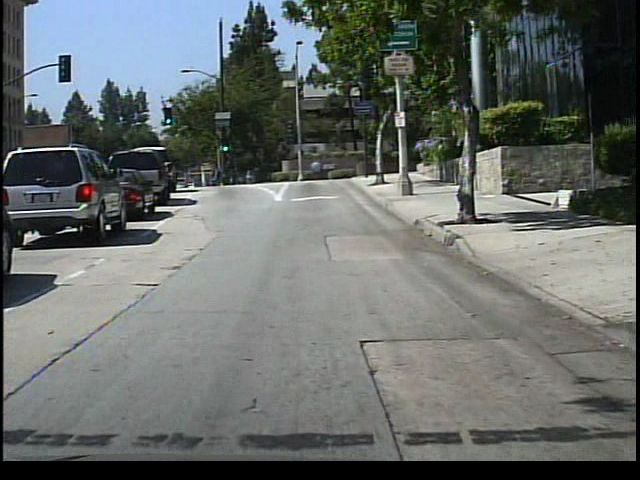car: (5, 141, 121, 243), (118, 166, 152, 217), (147, 148, 169, 198)
strada: (29, 213, 601, 453)
